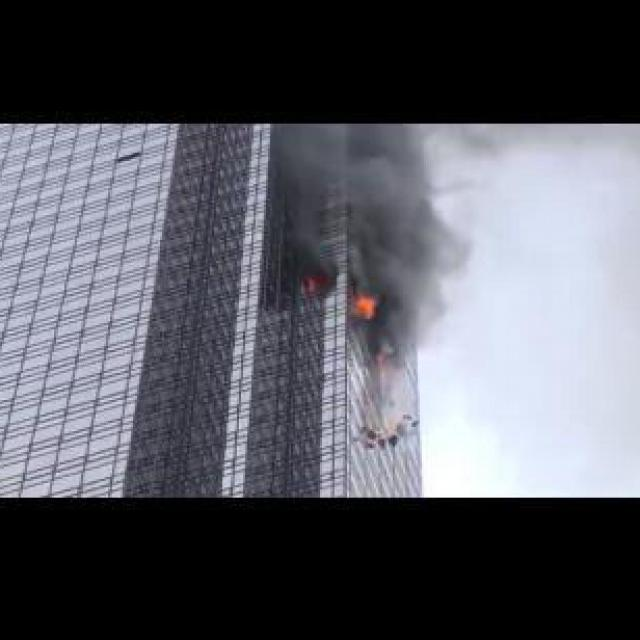fire: (349, 288, 391, 326), (295, 272, 320, 302)
smoke: (258, 124, 520, 222), (382, 221, 472, 350)
